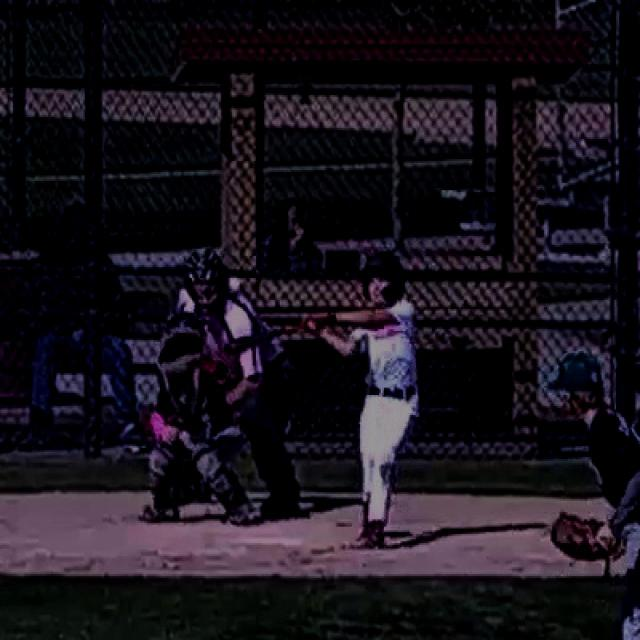baseball: (228, 276, 241, 292)
